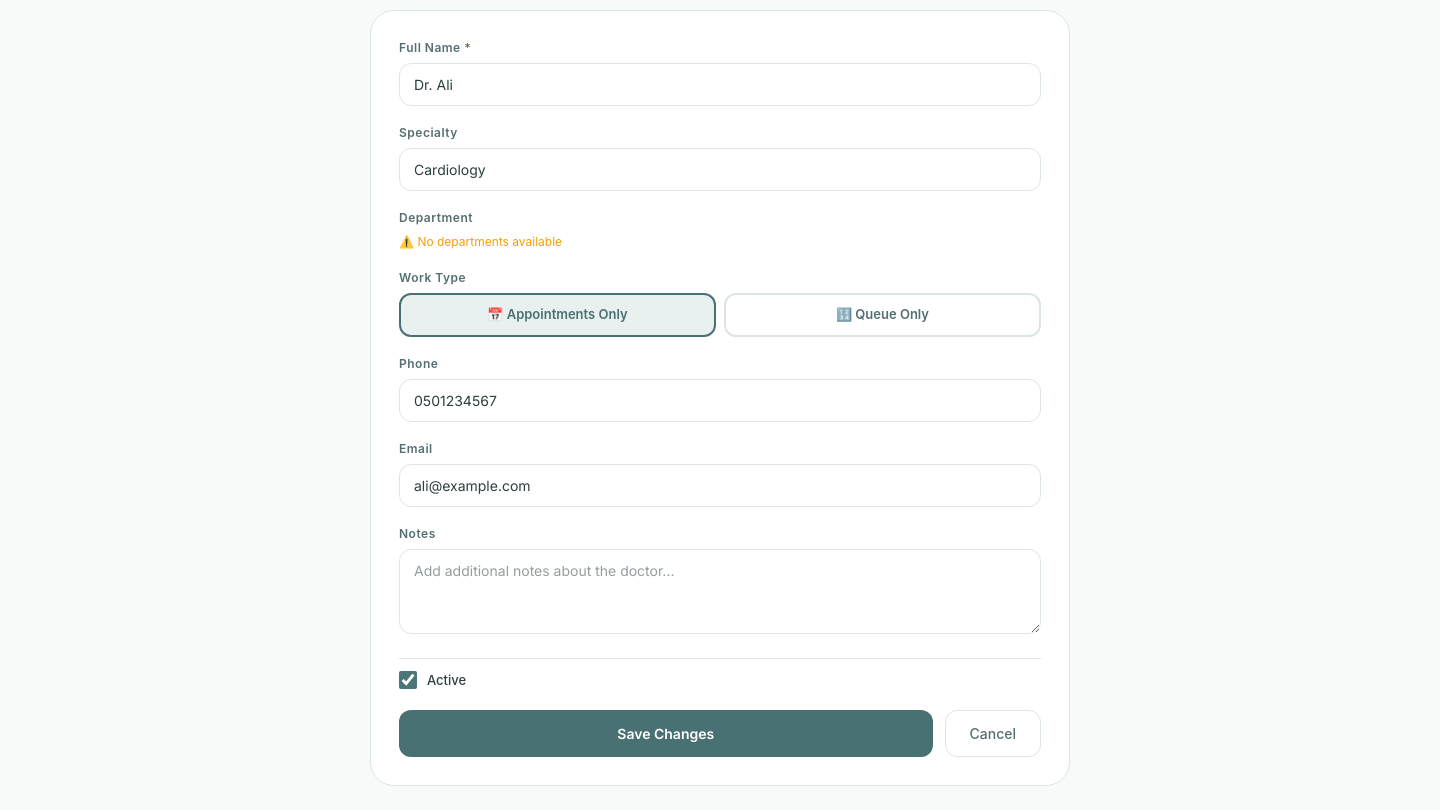
Test: EditDoctor › shows the server error message when saving fails
(page scrolled)
expect the field showing "Dr. Ali" is shown: met, box [399,63,1041,106]
Click the button "Save Changes" at (666, 734), box [399,710,932,757]
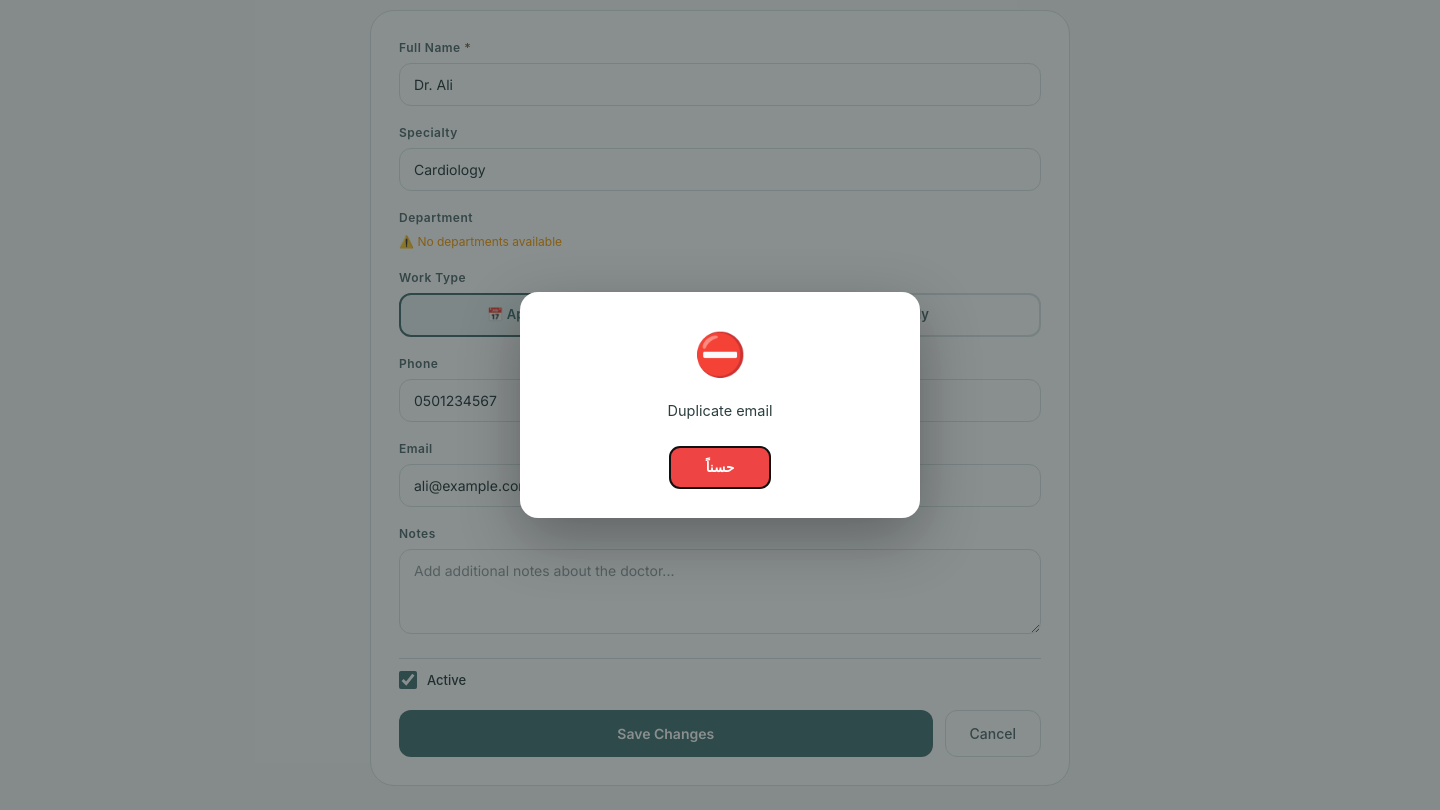
expect the text "Duplicate email" is shown: met, box [668,402,772,419]
